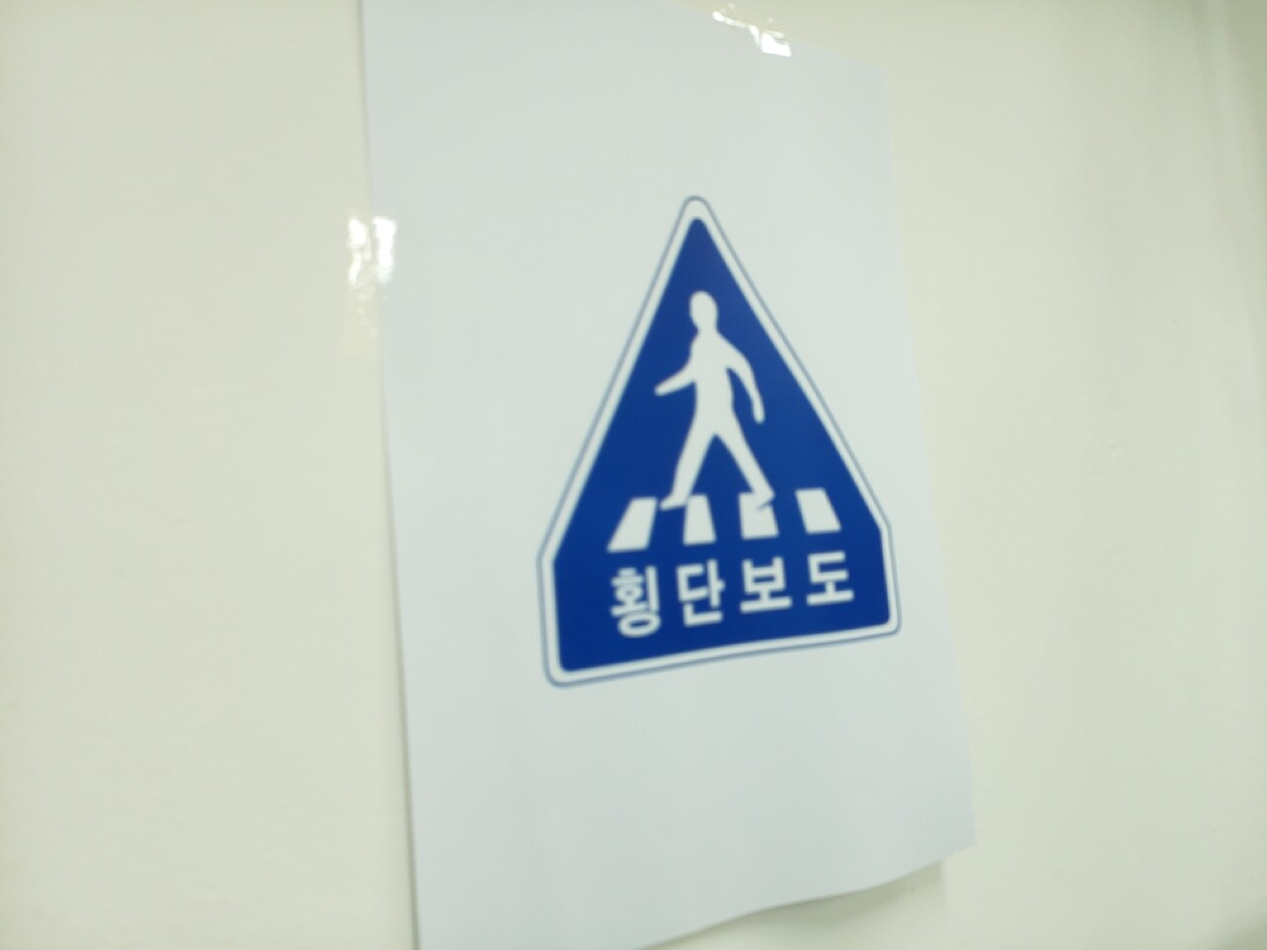crosswalk: (543, 206, 900, 685)
